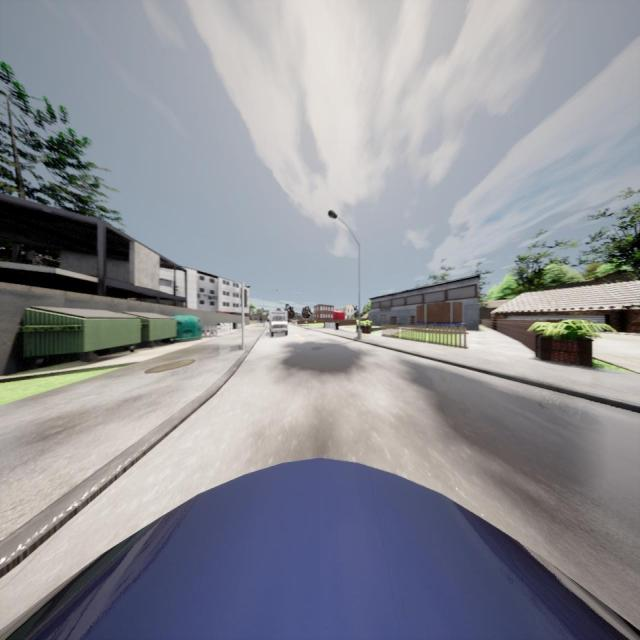Vehicle: (0, 458, 640, 640), (270, 310, 288, 336)
traffic_light: (241, 288, 247, 307)
